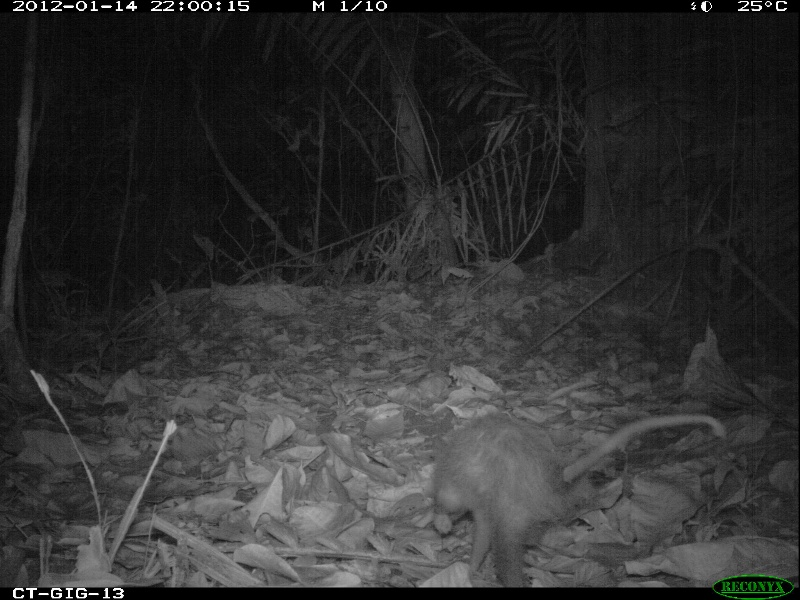opossum: (424, 405, 732, 590)
